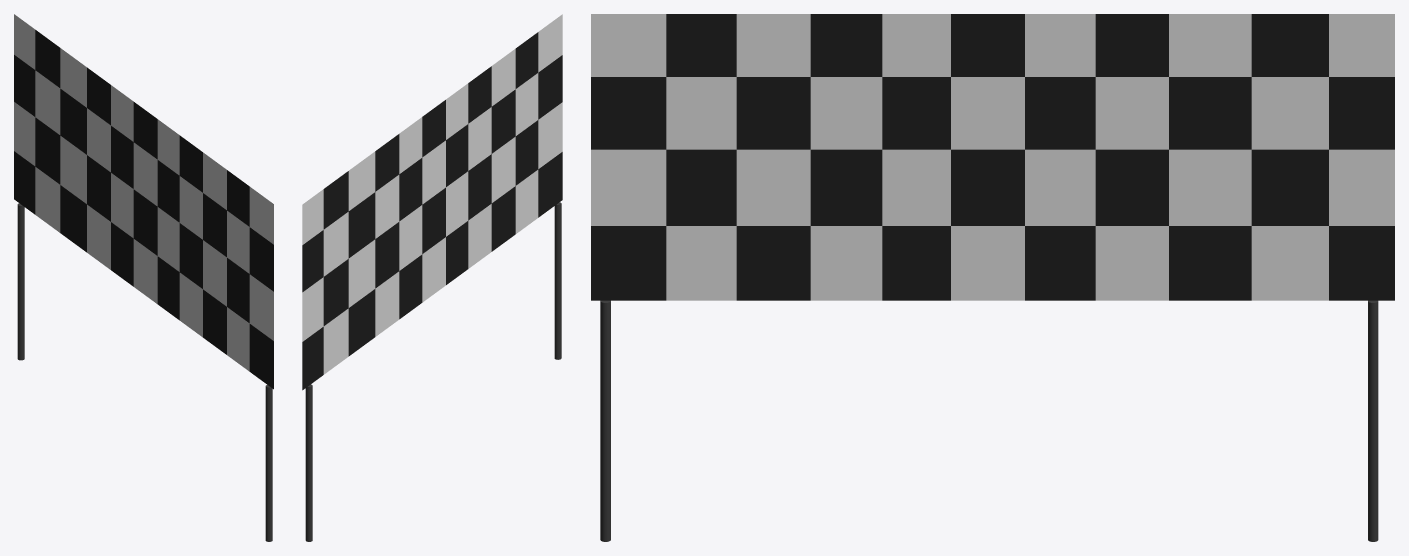
The model's file is metadefinitiva.fbx.
3 views of the same model, side by side, from view 1: azimuth 30°, elevation 25°; view 2: azimuth 150°, elevation 25°; view 3: azimuth 270°, elevation 25° (orthographic). The views are drawn at different scales.
Visible parts, largest first — view 1: palo2; view 2: palo2; view 3: palo2.
Boxes of the visible parts, box(x1,y1,x2,y2) form: palo2: box(14, 14, 273, 541); palo2: box(302, 14, 562, 541); palo2: box(591, 14, 1394, 541).
Bounding box in the file's own units: 4 × 220 × 305.
1 material, 1 textured.
